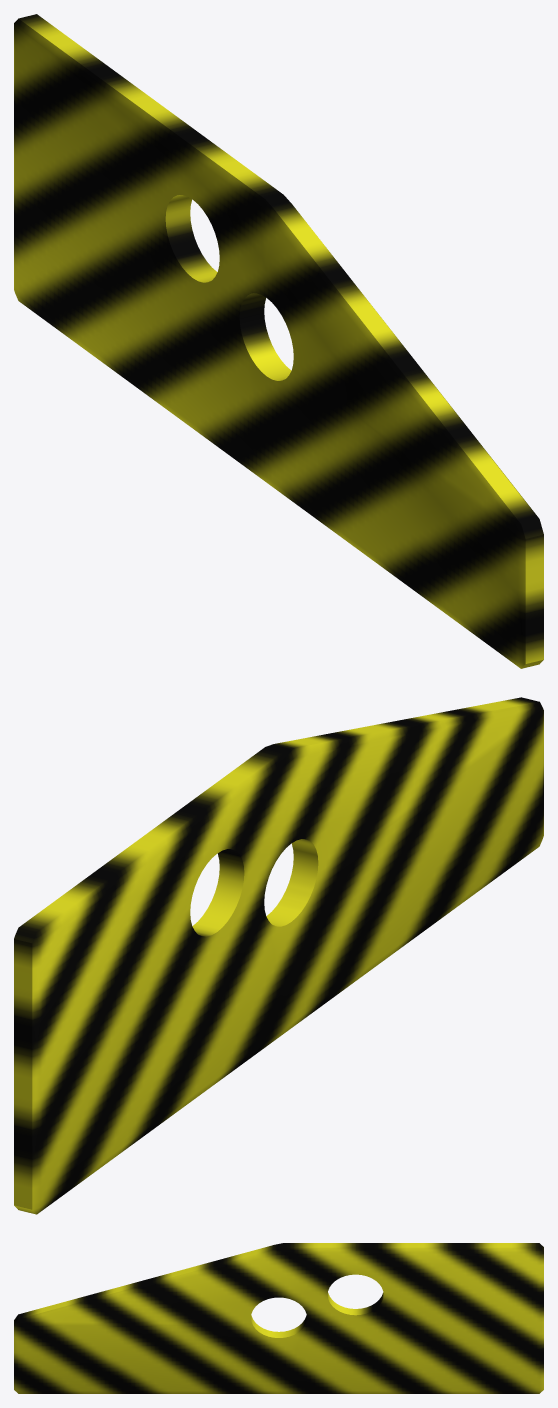
The model's file is autre.fbx.
3 renders of one model, top to bottom at view 1: azimuth 30°, elevation 25°; view 2: azimuth 150°, elevation 25°; view 3: azimuth 270°, elevation 25°, orthographic. The views are drawn at different scales.
Visible parts, largest first — view 1: autre; view 2: autre; view 3: autre.
Part boxes in pixels (box(x1,y1,x2,y2)): autre: box(14, 14, 543, 668); autre: box(14, 697, 543, 1214); autre: box(14, 1243, 543, 1393).
Size of the model in its own units: 0.3841 by 13.83 by 4.21.
Materials: 1 (1 with a texture image).
